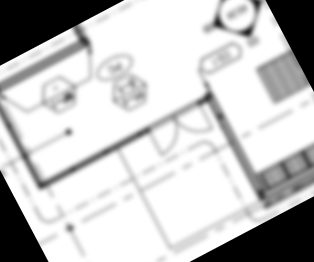double door: (146, 102, 216, 159)
